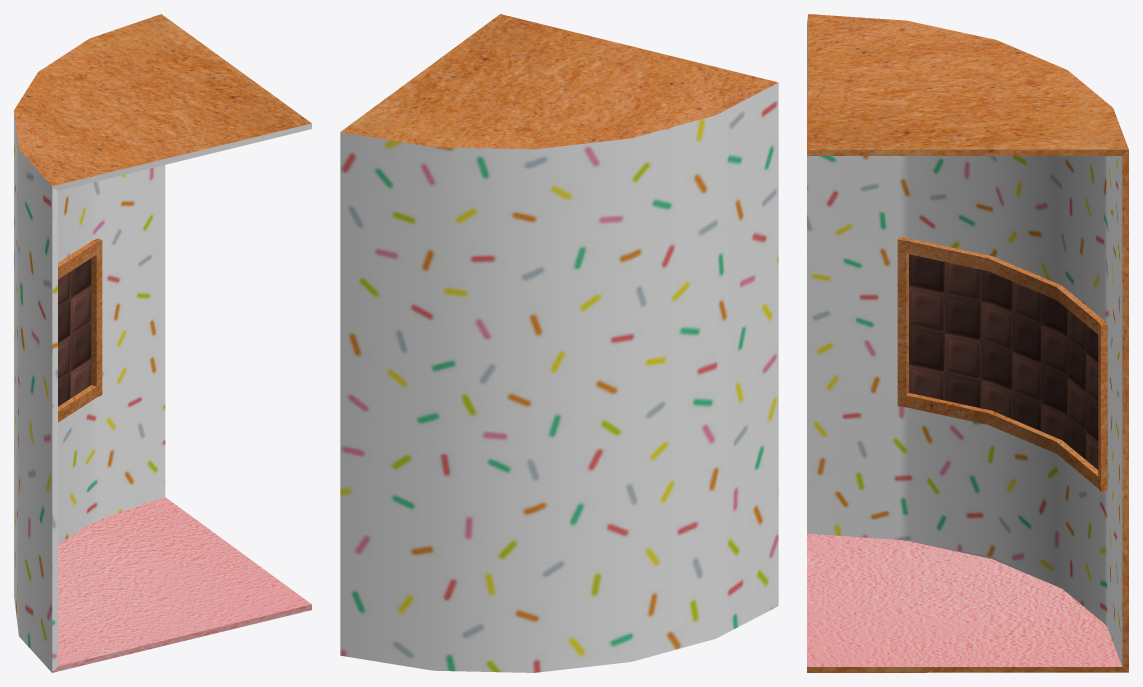
Rendered from House2Wall.fbx.
The picture shows the model from 3 angles, left to right: view 1: azimuth 30°, elevation 25°; view 2: azimuth 150°, elevation 25°; view 3: azimuth 270°, elevation 25°; orthographic projection. The views are drawn at different scales.
Visible parts, largest first — view 1: pCylinder12; view 2: pCylinder12; view 3: pCylinder12.
Part boxes in pixels (x1=…): pCylinder12: x1=14, y1=14, x2=311, y2=672; pCylinder12: x1=340, y1=14, x2=778, y2=672; pCylinder12: x1=807, y1=14, x2=1128, y2=672.
Bounding box in the file's own units: 4.77 × 8.56 × 4.77.
1 material, 1 textured.
